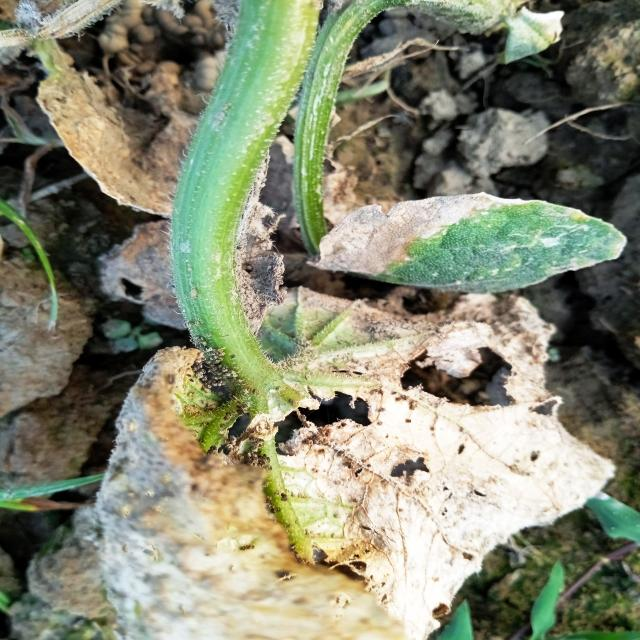Bacterial-Wilt: (100, 282, 620, 640)
